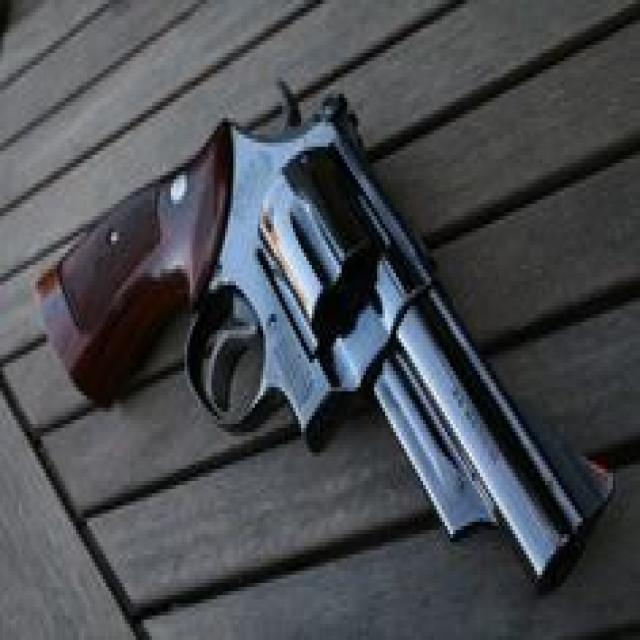revolver: (18, 30, 624, 598)
